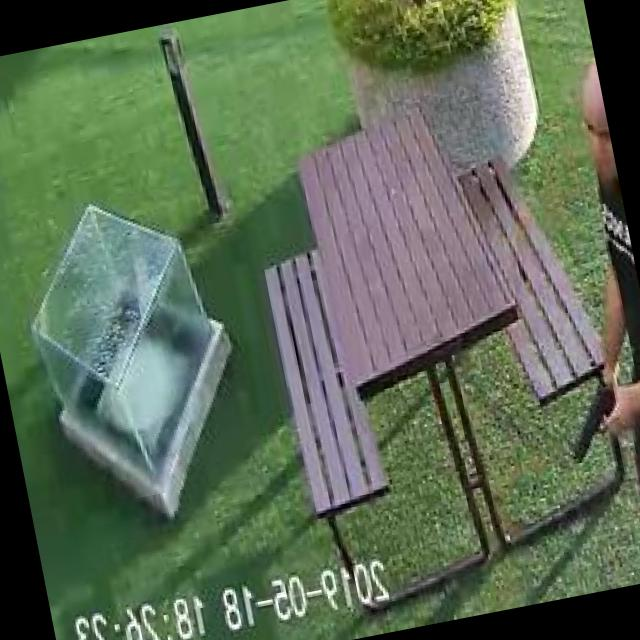Guns: (541, 353, 640, 480)
